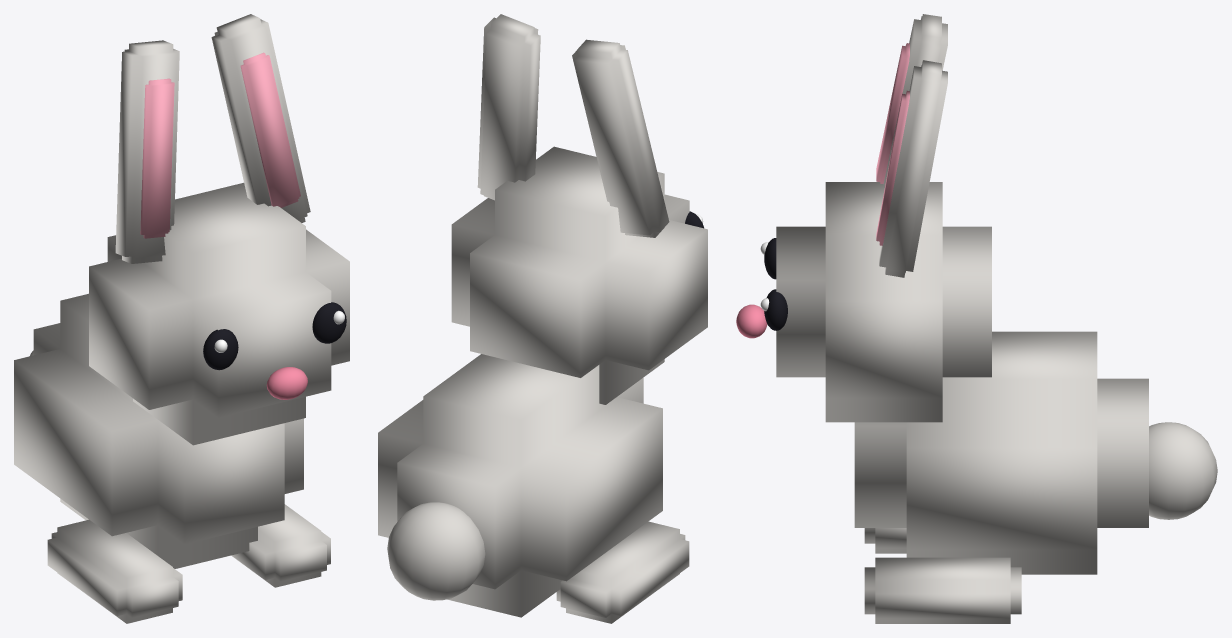
The model's file is Pet_Bunny_White.glb.
3 views of the same model, side by side, from view 1: azimuth 30°, elevation 25°; view 2: azimuth 150°, elevation 25°; view 3: azimuth 270°, elevation 25° (orthographic). The views are drawn at different scales.
Visible parts, largest first — view 1: Pet_Bunny_White_Head, Pet_Bunny_White_Body, Pet_Bunny_White, Pet_Bunny_White_Foot_-1, Pet_Bunny_White_Ear_-1, Pet_Bunny_White_EarIn_-1, Pet_Bunny_White_Nose, Pet_Bunny_White_Eye_-1; view 2: Pet_Bunny_White_Body, Pet_Bunny_White_Head, Pet_Bunny_White_Ear_-1, Pet_Bunny_White, Pet_Bunny_White_Foot_-1, Pet_Bunny_White_CottonTail; view 3: Pet_Bunny_White_Body, Pet_Bunny_White_Head, Pet_Bunny_White, Pet_Bunny_White_CottonTail, Pet_Bunny_White_Ear_-1, Pet_Bunny_White_EarIn_-1, Pet_Bunny_White_Foot_-1, Pet_Bunny_White_Nose.
Part boxes in pixels (x1,y1,x2,y2): Pet_Bunny_White_Head: (89,182,349,445); Pet_Bunny_White_Body: (14,293,303,568); Pet_Bunny_White: (211,14,346,587); Pet_Bunny_White_Foot_-1: (47,519,182,623); Pet_Bunny_White_Ear_-1: (115,40,179,263); Pet_Bunny_White_EarIn_-1: (140,78,174,238); Pet_Bunny_White_Nose: (266,367,307,399); Pet_Bunny_White_Eye_-1: (203,329,238,370); Pet_Bunny_White_Body: (378,354,662,617); Pet_Bunny_White_Head: (451,146,707,404); Pet_Bunny_White_Ear_-1: (572,39,669,237); Pet_Bunny_White: (477,14,540,200); Pet_Bunny_White_Foot_-1: (556,521,689,623); Pet_Bunny_White_CottonTail: (387,502,485,600); Pet_Bunny_White_Body: (854,331,1148,574); Pet_Bunny_White_Head: (776,182,991,422); Pet_Bunny_White: (760,60,1021,623); Pet_Bunny_White_CottonTail: (1149,422,1217,519); Pet_Bunny_White_Ear_-1: (883,14,947,185); Pet_Bunny_White_EarIn_-1: (876,43,909,183); Pet_Bunny_White_Foot_-1: (864,528,906,553); Pet_Bunny_White_Nose: (736,304,767,338).
Bounding box in the file's own units: 0.245 × 0.6017 × 0.4908.
